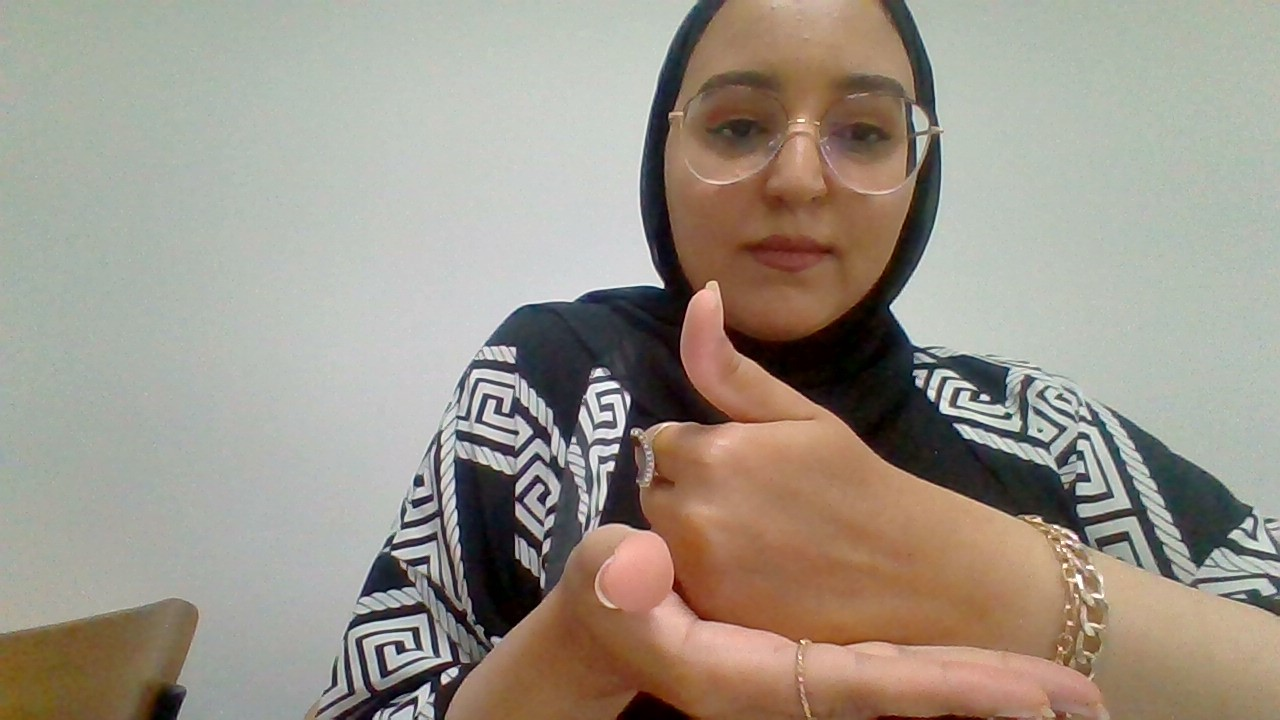help: (637, 272, 977, 641)
